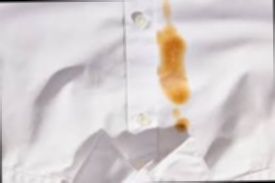coffee: (162, 35, 186, 103), (176, 118, 189, 132)
